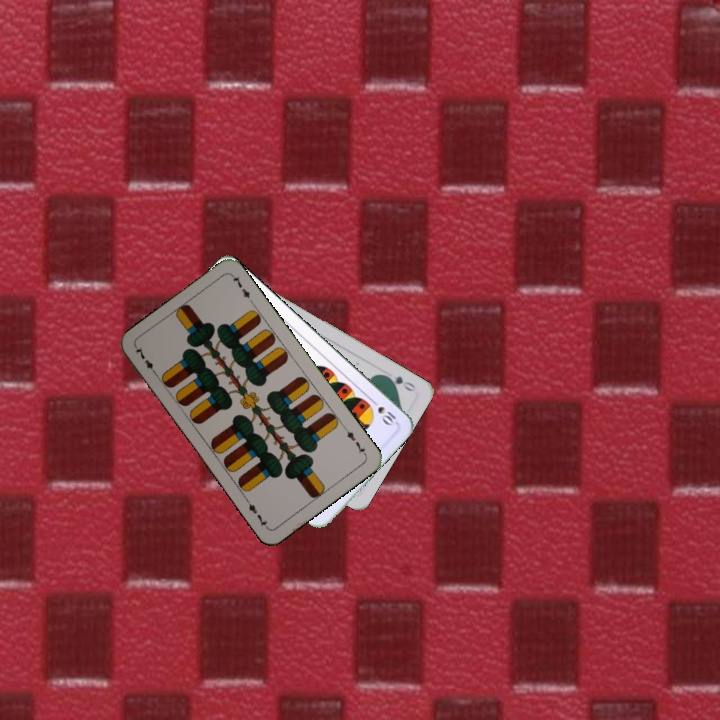E7: (340, 423, 369, 458), (131, 343, 160, 378)
GO: (380, 371, 418, 394)
S10: (367, 395, 399, 429)
